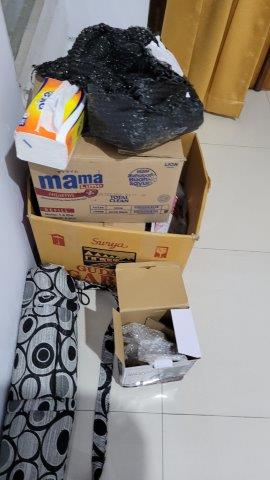kardus: (23, 135, 208, 297), (110, 262, 202, 387)
kertas: (143, 33, 185, 76)
